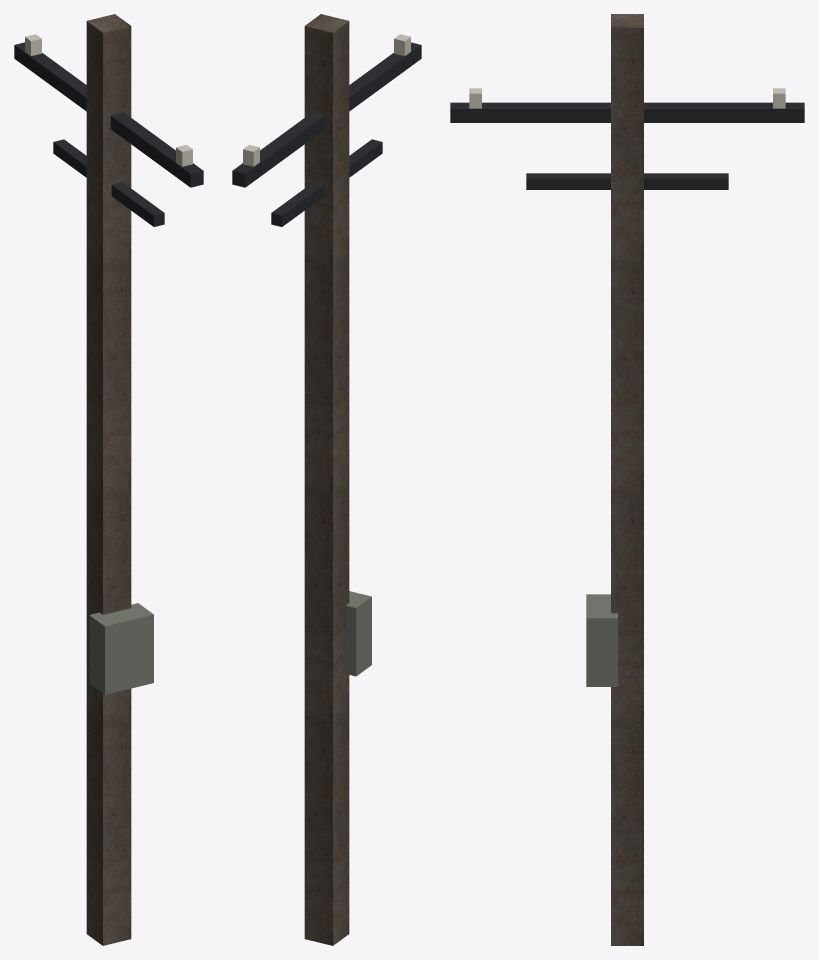
File: pole.glb
3 renders of one model, left to right at view 1: azimuth 30°, elevation 25°; view 2: azimuth 150°, elevation 25°; view 3: azimuth 270°, elevation 25°, orthographic.
Visible parts, largest first — view 1: pole_0, pole_1, pole_3, pole_2; view 2: pole_0, pole_1, pole_3, pole_2; view 3: pole_0, pole_1, pole_3.
Part boxes in pixels (x1,y1,x2,y2): pole_0: (86, 14, 131, 945); pole_1: (14, 42, 203, 226); pole_3: (89, 603, 153, 694); pole_2: (25, 34, 192, 166); pole_0: (304, 14, 349, 945); pole_1: (232, 42, 421, 226); pole_3: (346, 591, 371, 676); pole_2: (243, 34, 410, 166); pole_0: (611, 14, 643, 945); pole_1: (450, 102, 804, 189); pole_3: (586, 594, 617, 686).
Bounding box in the file's own units: 0.45 × 8 × 2.8.
4 materials, 4 textured.
